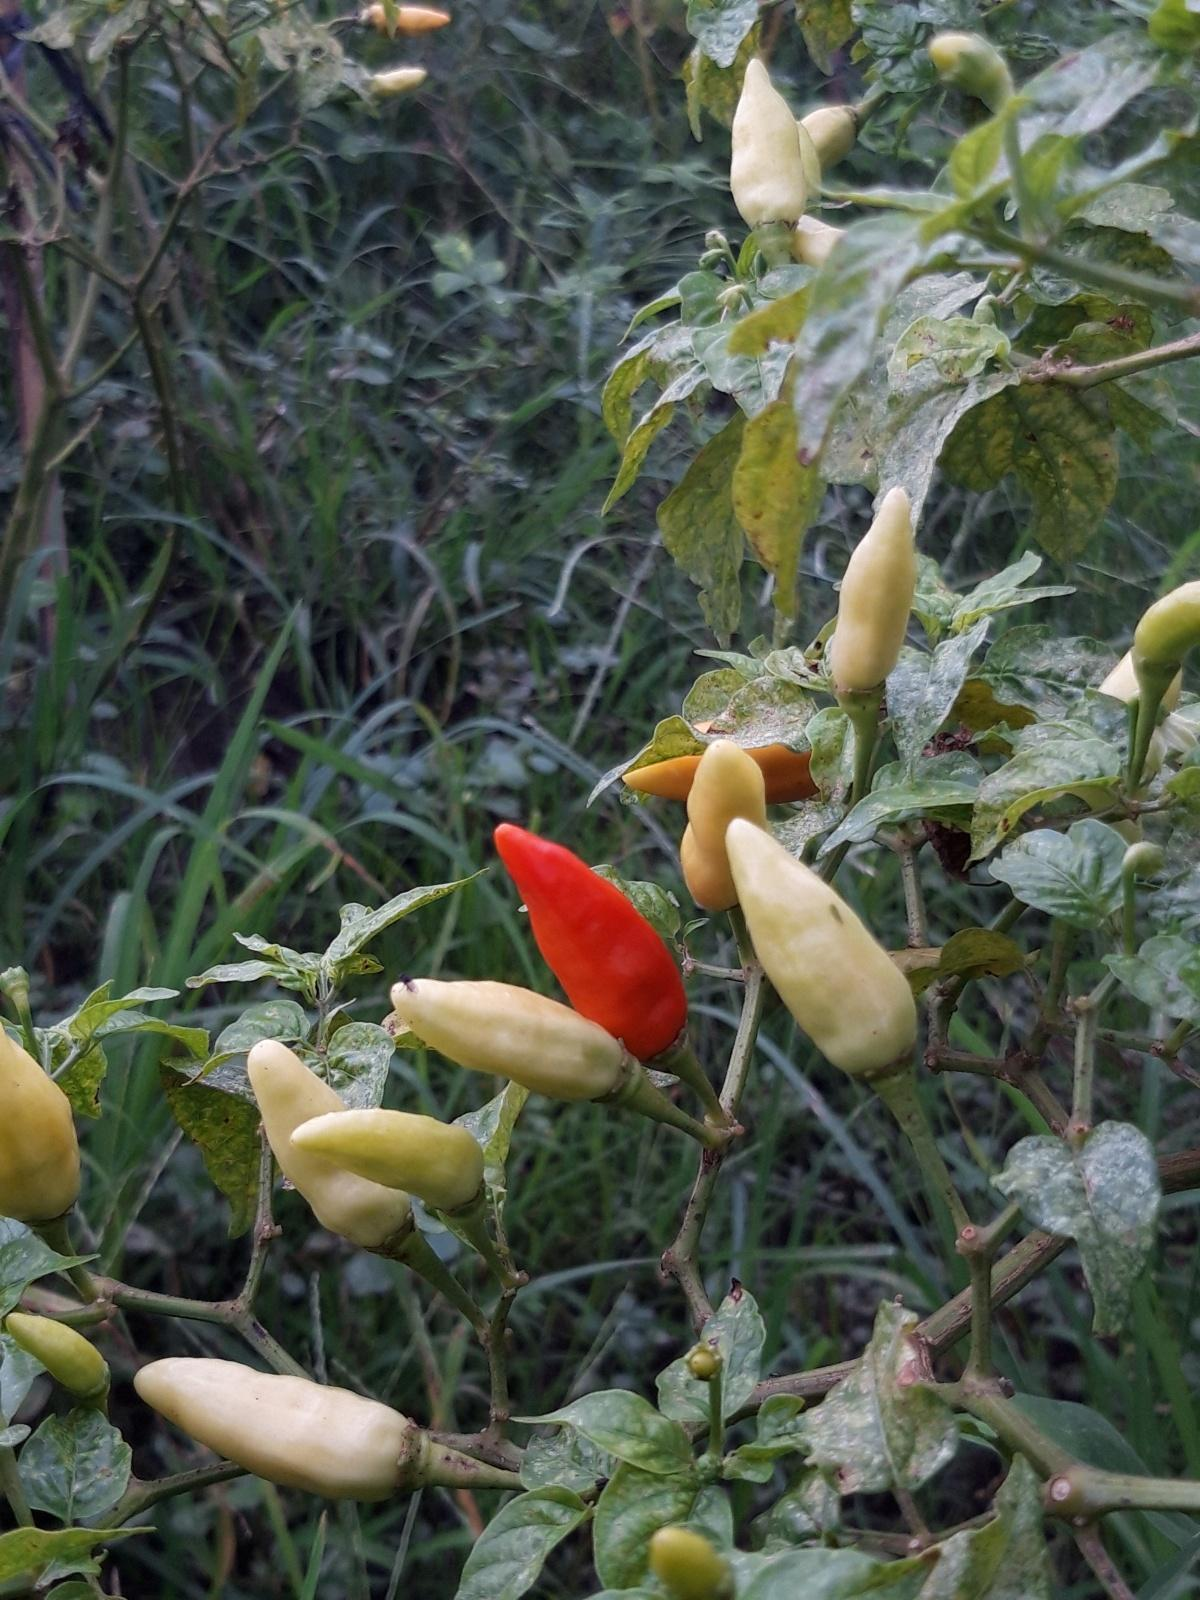cabai_normal: (725, 818, 915, 1067), (493, 821, 686, 1054), (131, 1356, 416, 1503), (245, 1038, 412, 1242), (392, 978, 625, 1096), (290, 1107, 483, 1207), (832, 488, 918, 690), (0, 1028, 81, 1222), (683, 740, 769, 912), (729, 58, 805, 226), (621, 746, 837, 801), (6, 1310, 107, 1393), (1131, 581, 1200, 670), (363, 4, 455, 34)
